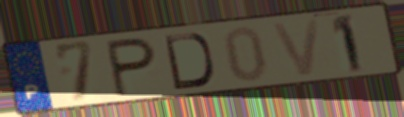0: (221, 24, 271, 84)
1: (329, 13, 366, 74)
7: (52, 38, 96, 107)
D: (162, 31, 217, 92)
P: (104, 35, 159, 99)
V: (269, 16, 323, 79)
